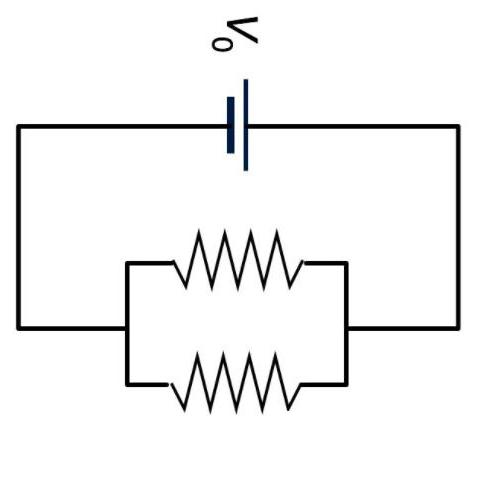resistor: (151, 345, 329, 432), (149, 227, 309, 299)
